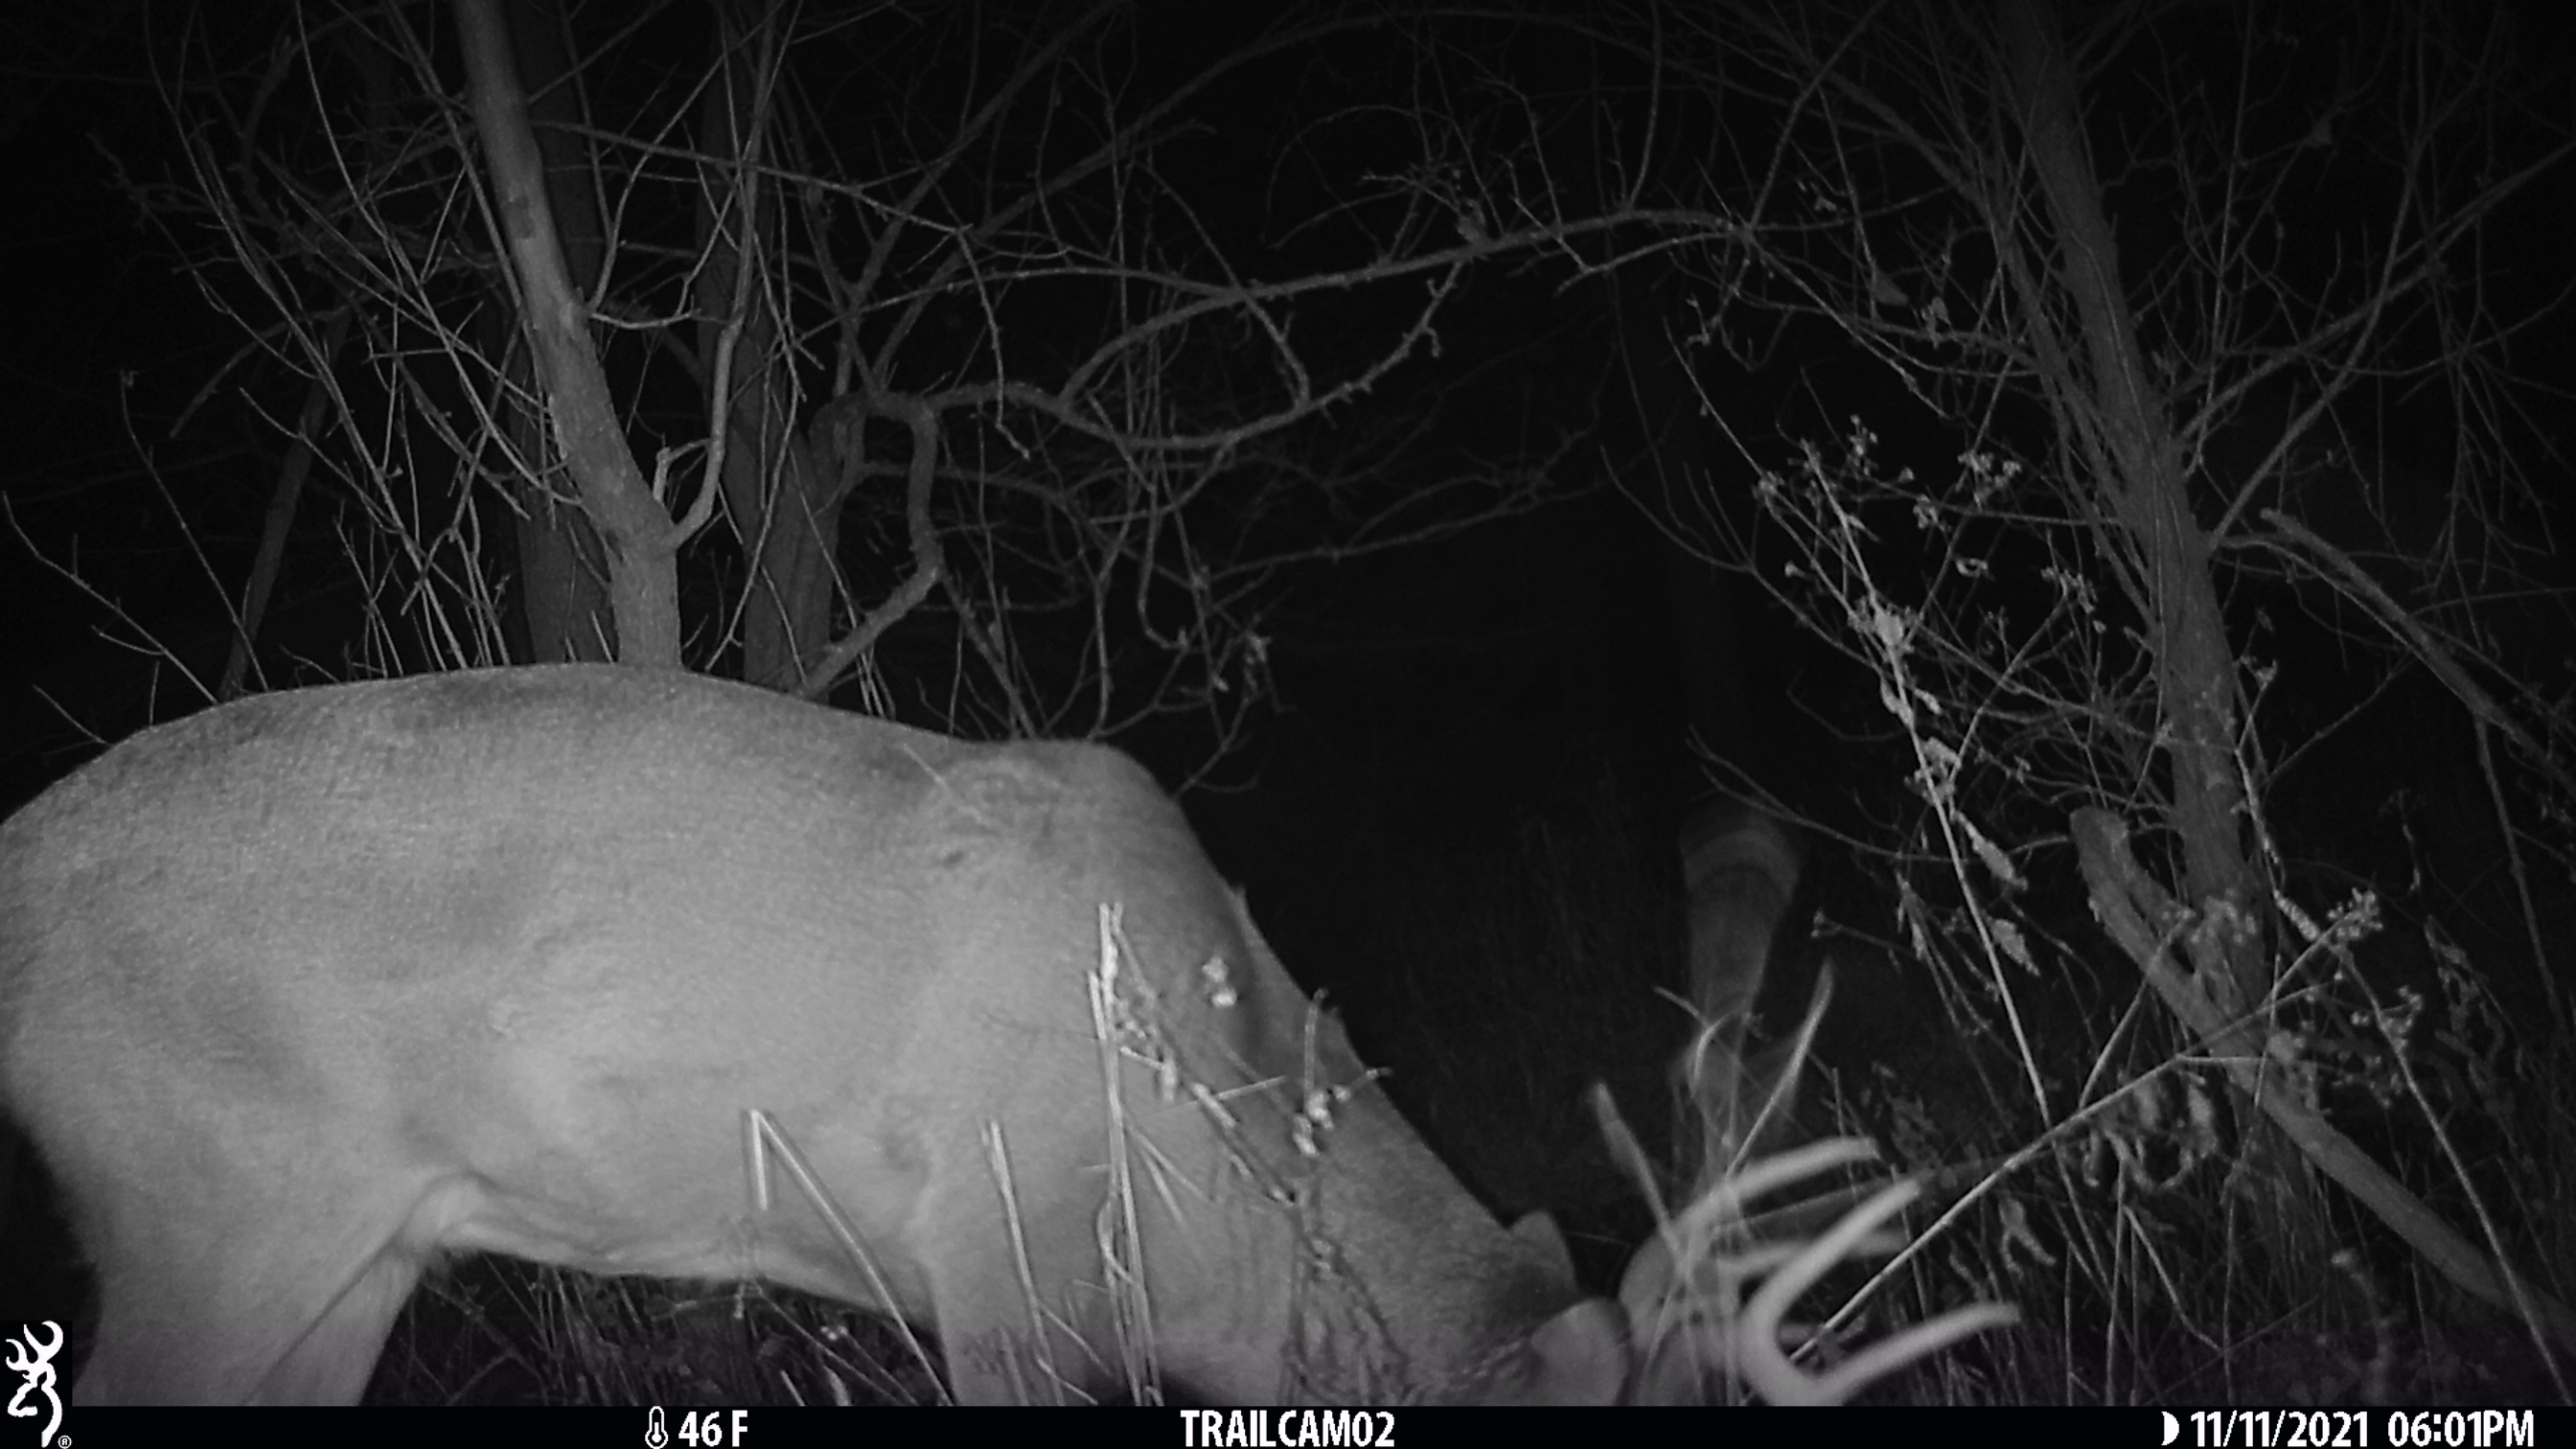DeerBuck: (1, 656, 2028, 1409)
DeerBuckHead: (1504, 1133, 2027, 1410)
